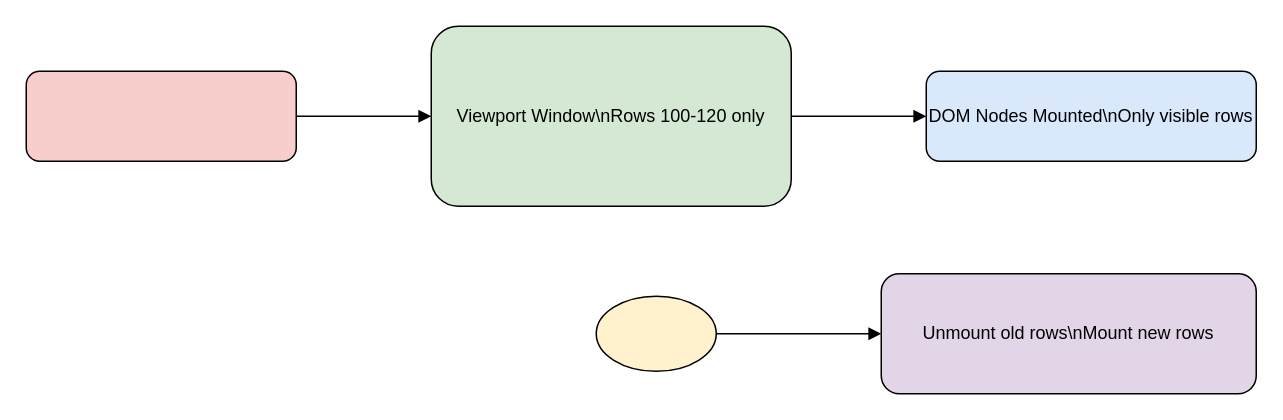
The diagram is 1283 pixels wide and 420 high, and some of its shapes have lost their labels. The centre of each missing label's shape, as x and y in pixels:
Scroll: the point at 655,333
Total List: 0...9999: the point at 160,115
